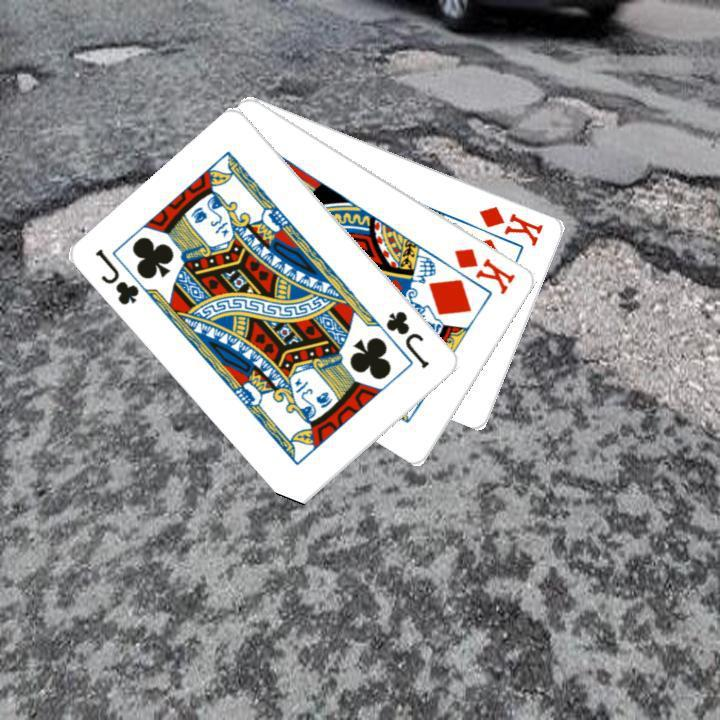J: (381, 306, 432, 371), (91, 244, 142, 308)
K: (450, 243, 518, 297), (475, 201, 546, 248)
